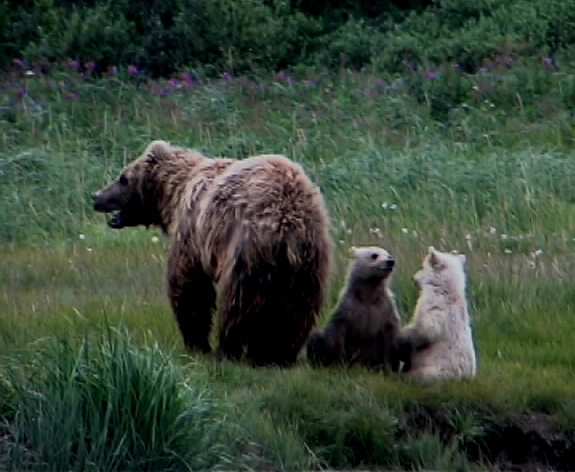bear: (87, 136, 174, 231), (344, 243, 400, 282)
